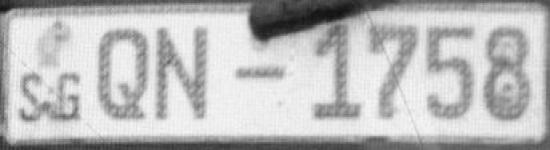-: (232, 60, 287, 86)
1: (311, 22, 367, 125)
5: (424, 23, 480, 123)
7: (368, 21, 422, 123)
8: (483, 23, 532, 126)
G: (51, 68, 83, 126)
N: (151, 21, 211, 125)
Q: (95, 24, 153, 124)
S: (15, 70, 48, 124)
